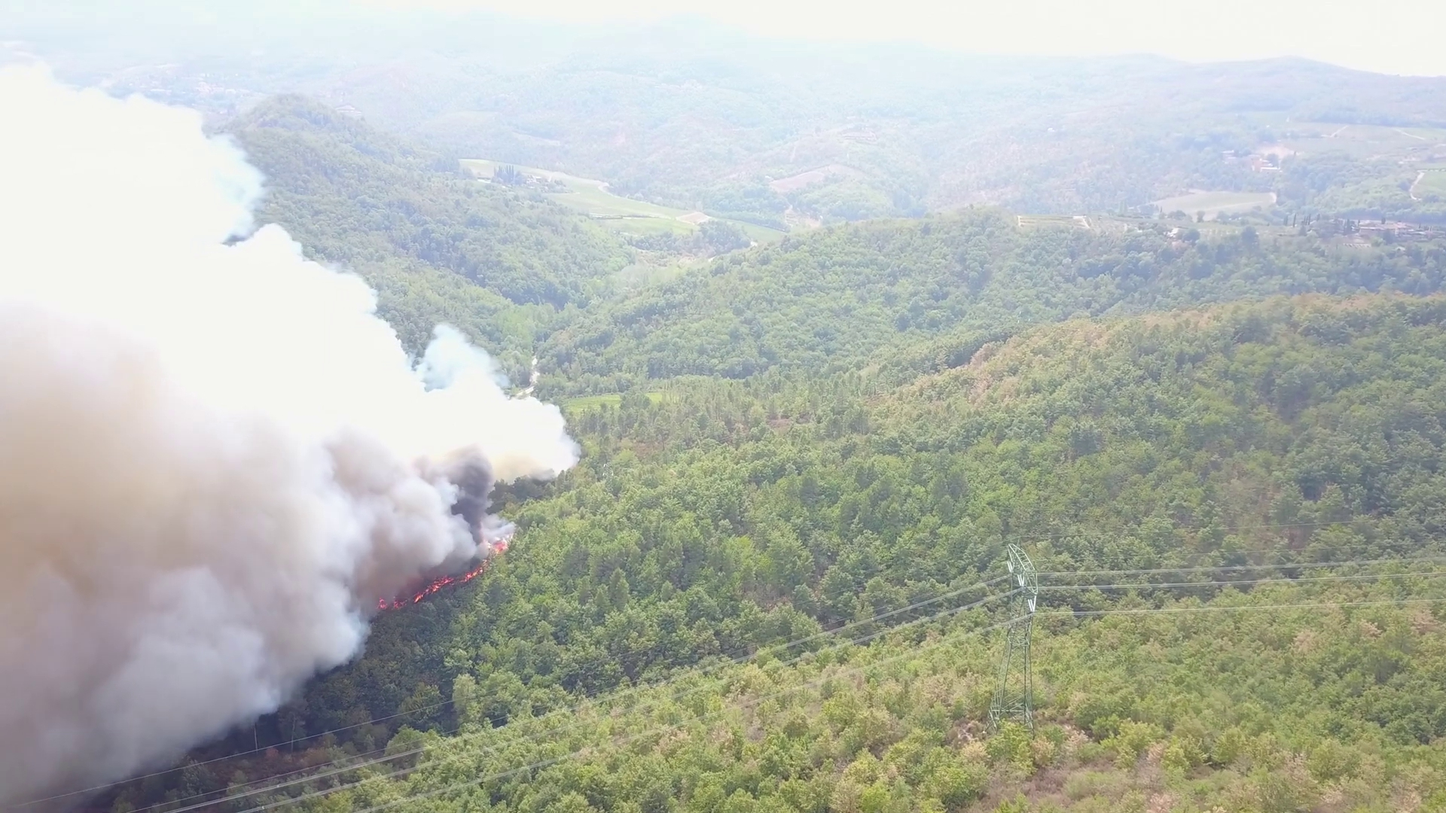forest_fire: (379, 538, 506, 610)
